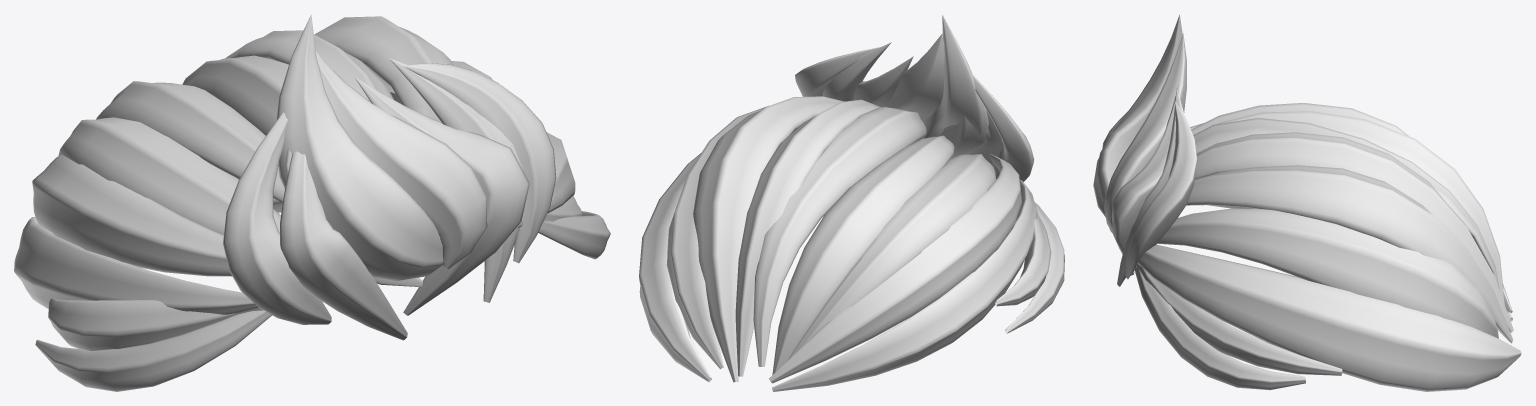
File: hairc2.fbx
3 renders of one model, left to right at view 1: azimuth 30°, elevation 25°; view 2: azimuth 150°, elevation 25°; view 3: azimuth 270°, elevation 25°, orthographic. The views are drawn at different scales.
Parts seen in each view (by area): view 1: NurbsPath.026; view 2: NurbsPath.026; view 3: NurbsPath.026.
Boxes of the visible parts, left/top/right/bottom form: NurbsPath.026: left=14, top=14, right=610, bottom=391; NurbsPath.026: left=639, top=15, right=1064, bottom=391; NurbsPath.026: left=1093, top=14, right=1521, bottom=391.
Bounding box in the file's own units: 249 × 267 × 193.
